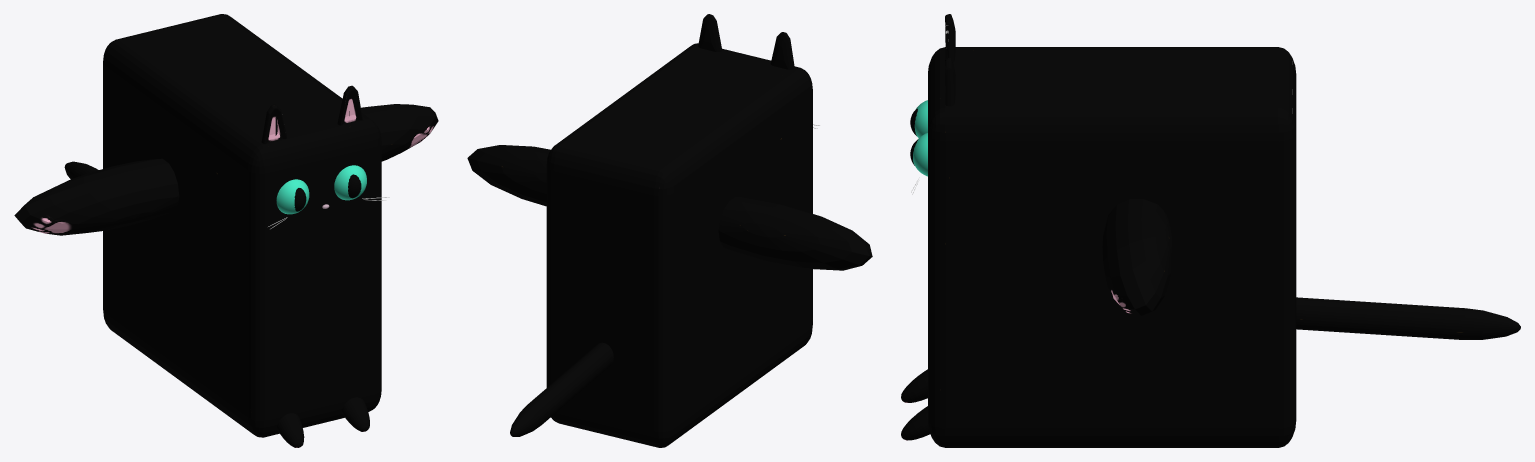
The model's file is BarCat.fbx.
The picture shows the model from 3 angles, left to right: view 1: azimuth 30°, elevation 25°; view 2: azimuth 150°, elevation 25°; view 3: azimuth 270°, elevation 25°; orthographic projection. The views are drawn at different scales.
Parts seen in each view (by area): view 1: body, eye, eyeball; view 2: body; view 3: body, eye.
Boxes of the visible parts, x1,y1,x2,y2 form: body: [14, 14, 438, 447]; eye: [276, 165, 366, 214]; eyeball: [294, 174, 361, 211]; body: [467, 14, 872, 447]; body: [901, 14, 1520, 447]; eye: [913, 100, 927, 176].
Size of the model in its own units: 40.21 by 30.15 by 44.1.
